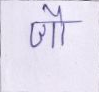au_matra: (52, 5, 70, 45)
